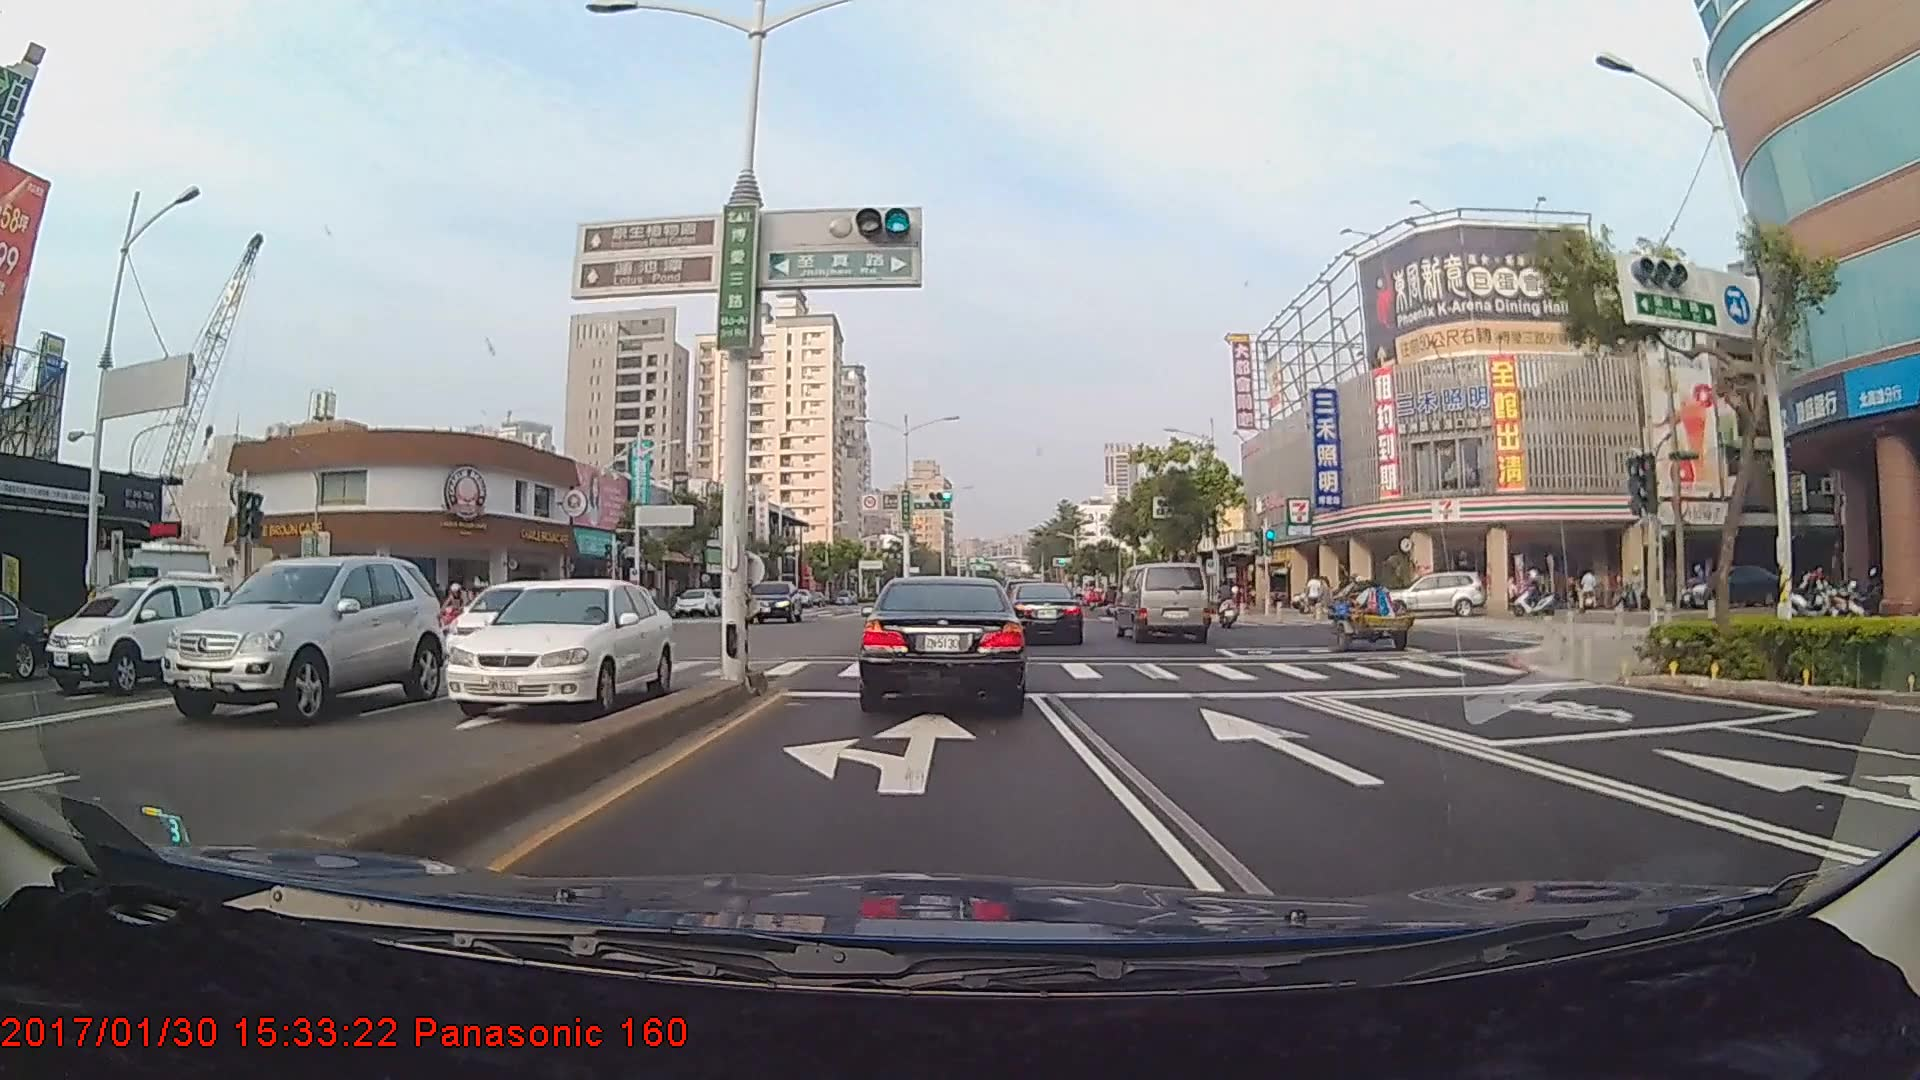pedestrian: (1304, 572, 1324, 621)
rider: (433, 581, 477, 642), (1210, 580, 1244, 633)
vehicle: (151, 551, 444, 724), (428, 575, 681, 722), (41, 570, 230, 702), (859, 572, 1026, 714), (442, 583, 582, 672), (1116, 562, 1210, 644), (1008, 581, 1084, 645), (1396, 571, 1487, 620), (0, 590, 46, 677), (672, 587, 717, 617)
